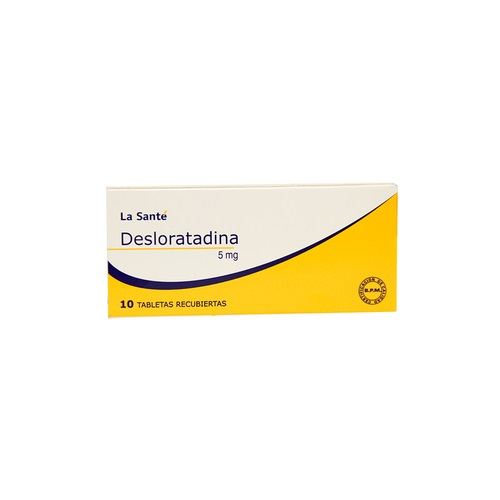LaSante: (107, 188, 396, 313)
